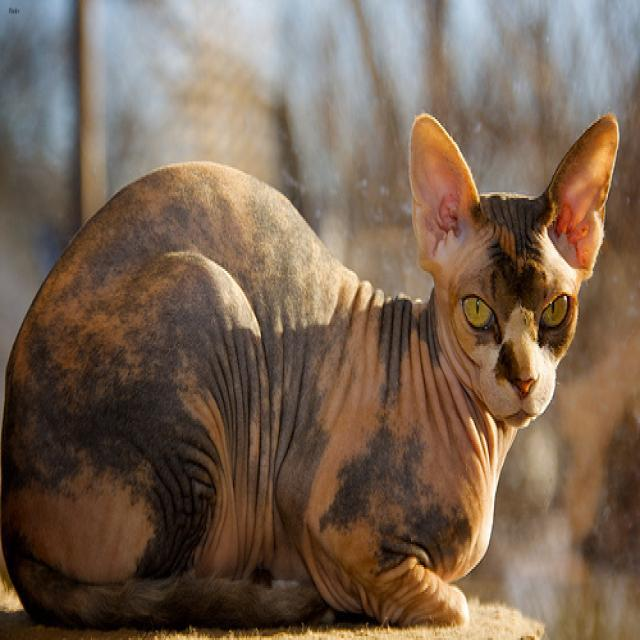Sphynx: (406, 110, 617, 425)
